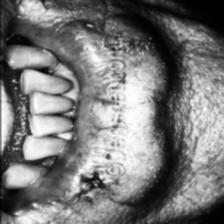Potentially Malignant Skin Tumors: (77, 170, 111, 202)
